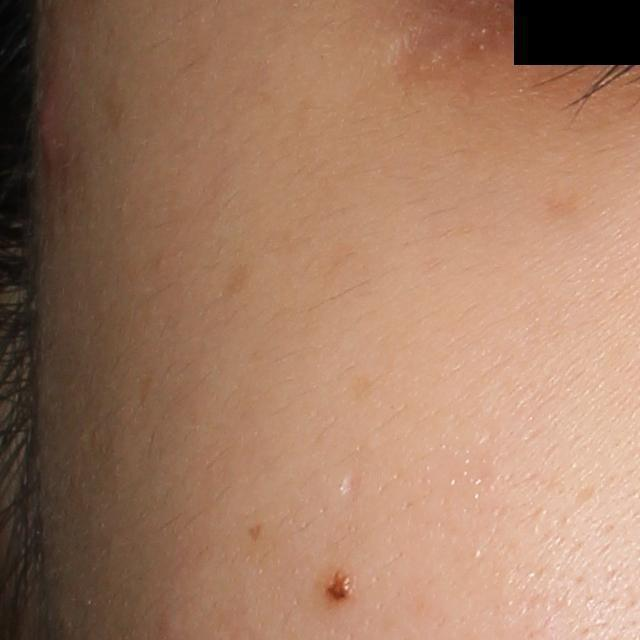melasma: (534, 182, 596, 225), (215, 257, 262, 308)
nevus: (314, 559, 369, 613), (245, 521, 264, 546)
papule: (31, 92, 58, 150)
